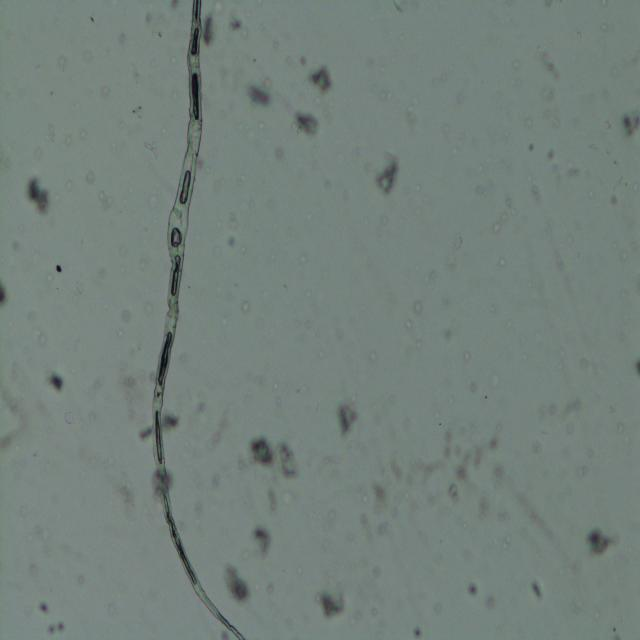Background material: (448, 431, 506, 496), (359, 466, 406, 538), (118, 354, 154, 426), (244, 437, 301, 482), (0, 379, 34, 450), (581, 526, 625, 559), (215, 397, 245, 445), (316, 584, 349, 624), (26, 176, 52, 222), (485, 198, 515, 237), (111, 465, 135, 512), (373, 159, 401, 199), (223, 564, 250, 604), (304, 59, 334, 94), (40, 596, 64, 637), (536, 48, 562, 84), (336, 400, 360, 438), (556, 397, 584, 424), (292, 110, 322, 135), (251, 527, 273, 561), (245, 81, 273, 105), (201, 16, 221, 49), (622, 105, 640, 141), (268, 135, 288, 167), (224, 8, 244, 39), (126, 100, 148, 125), (44, 115, 60, 145), (528, 574, 546, 600), (97, 193, 119, 214), (449, 234, 469, 255), (212, 468, 228, 493), (82, 164, 98, 188), (0, 272, 10, 310), (140, 139, 160, 158), (48, 372, 65, 393), (54, 52, 68, 75), (462, 578, 478, 596), (627, 354, 640, 376), (224, 232, 240, 249), (408, 624, 426, 639), (112, 32, 130, 47), (413, 297, 425, 317), (524, 136, 536, 155), (545, 147, 557, 163), (428, 266, 438, 284)
Cotton: (149, 0, 247, 639)
